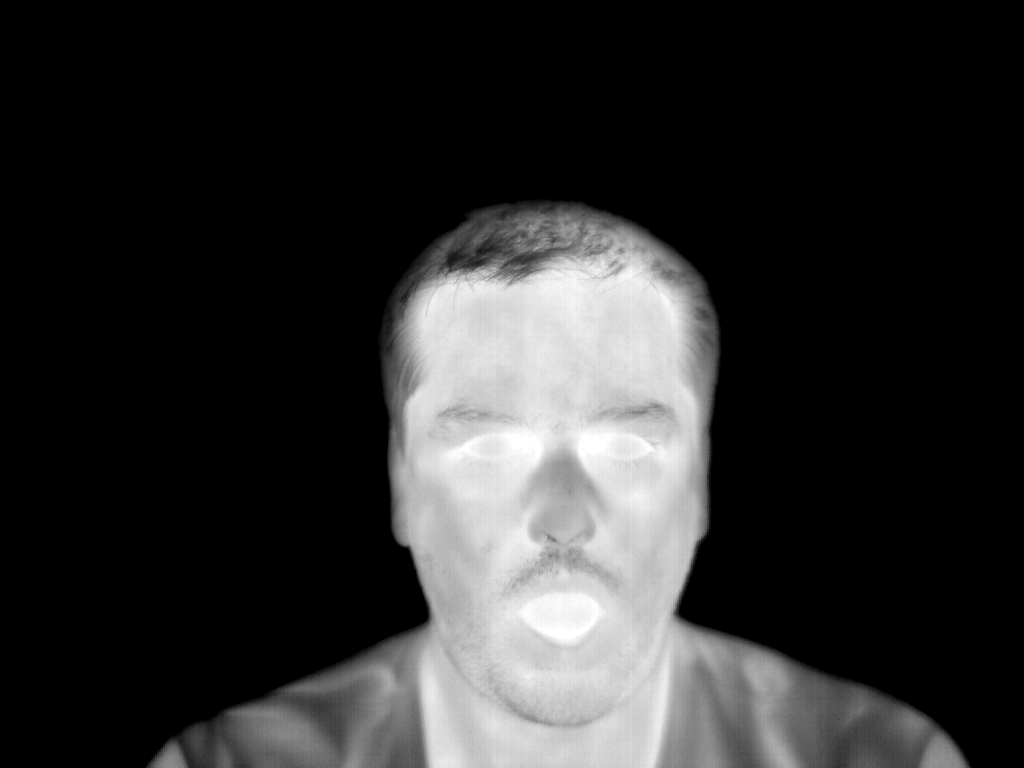face: (422, 279, 690, 722)
